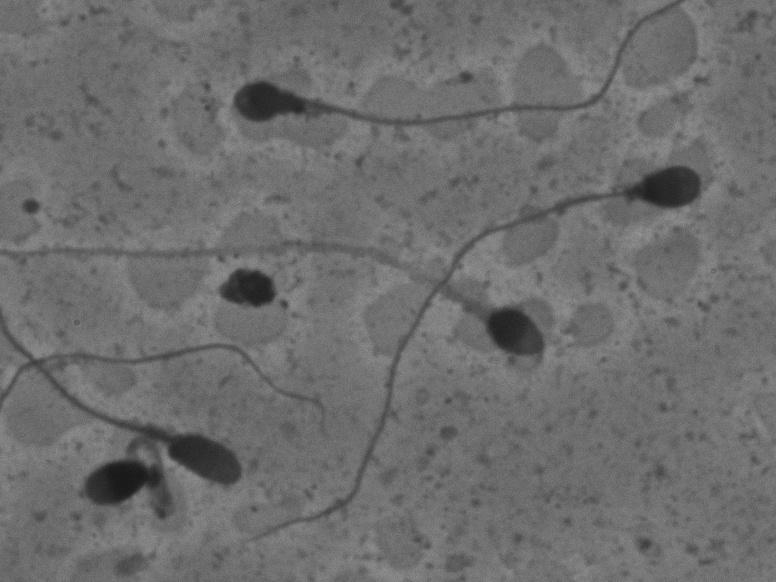Abnormal: (231, 156, 714, 548), (213, 5, 694, 140), (1, 329, 272, 507), (65, 440, 179, 536)
Normal: (6, 227, 577, 382)
